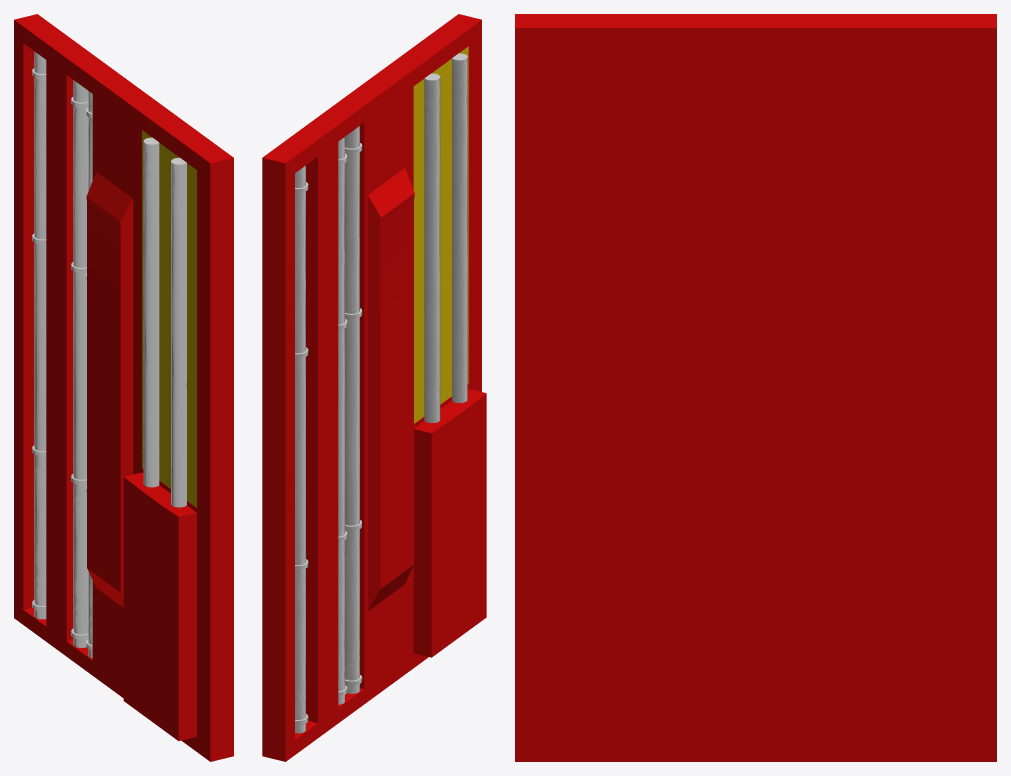
File: pared.fbx
3 views of the same model, side by side, from view 1: azimuth 30°, elevation 25°; view 2: azimuth 150°, elevation 25°; view 3: azimuth 270°, elevation 25° (orthographic). The views are drawn at different scales.
Parts seen in each view (by area): view 1: Box003; view 2: Box003; view 3: Box003.
Part boxes in pixels (box(x1,y1,x2,y2)): Box003: box(14, 14, 233, 761); Box003: box(262, 14, 486, 761); Box003: box(515, 14, 996, 761).
Size of the model in its own units: 7.61 by 105 by 62.27.
